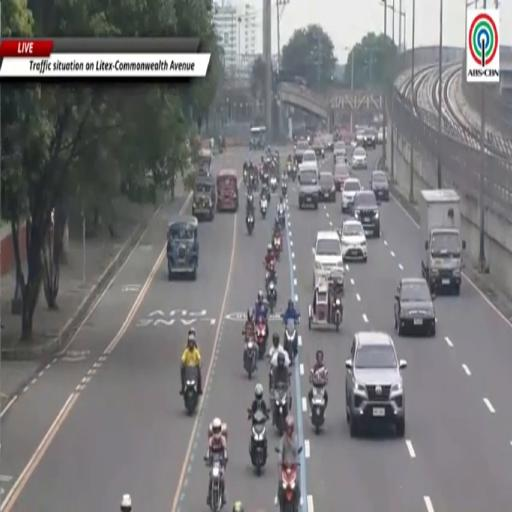car: (346, 331, 407, 437), (395, 278, 435, 337), (352, 190, 380, 237), (340, 219, 367, 262), (313, 230, 342, 269), (298, 162, 319, 209), (342, 178, 361, 213), (370, 170, 389, 201), (319, 172, 335, 202), (333, 163, 350, 190), (294, 140, 309, 164), (352, 147, 367, 169), (312, 138, 325, 159), (363, 128, 376, 149), (334, 141, 347, 162), (303, 150, 317, 165), (355, 131, 364, 146), (377, 127, 383, 143)
jeepney: (167, 216, 199, 280), (192, 176, 215, 220), (217, 169, 238, 212), (249, 126, 266, 150), (198, 149, 212, 172)
motorcycle: (248, 409, 267, 475), (204, 457, 223, 511), (279, 462, 299, 511), (273, 383, 289, 435), (183, 367, 199, 415), (310, 383, 325, 434), (284, 319, 297, 362), (255, 317, 267, 359), (244, 340, 256, 379), (332, 297, 342, 331), (267, 280, 276, 313), (265, 263, 276, 289), (273, 235, 281, 259), (246, 213, 254, 235), (249, 171, 258, 190), (246, 192, 254, 211), (278, 208, 285, 229), (261, 186, 270, 202), (260, 198, 267, 218), (289, 166, 297, 182), (270, 175, 277, 193), (262, 170, 269, 185), (286, 163, 292, 178), (243, 169, 248, 184), (282, 182, 287, 196)
tricycle: (309, 276, 342, 331)
truck: (418, 189, 465, 295)
